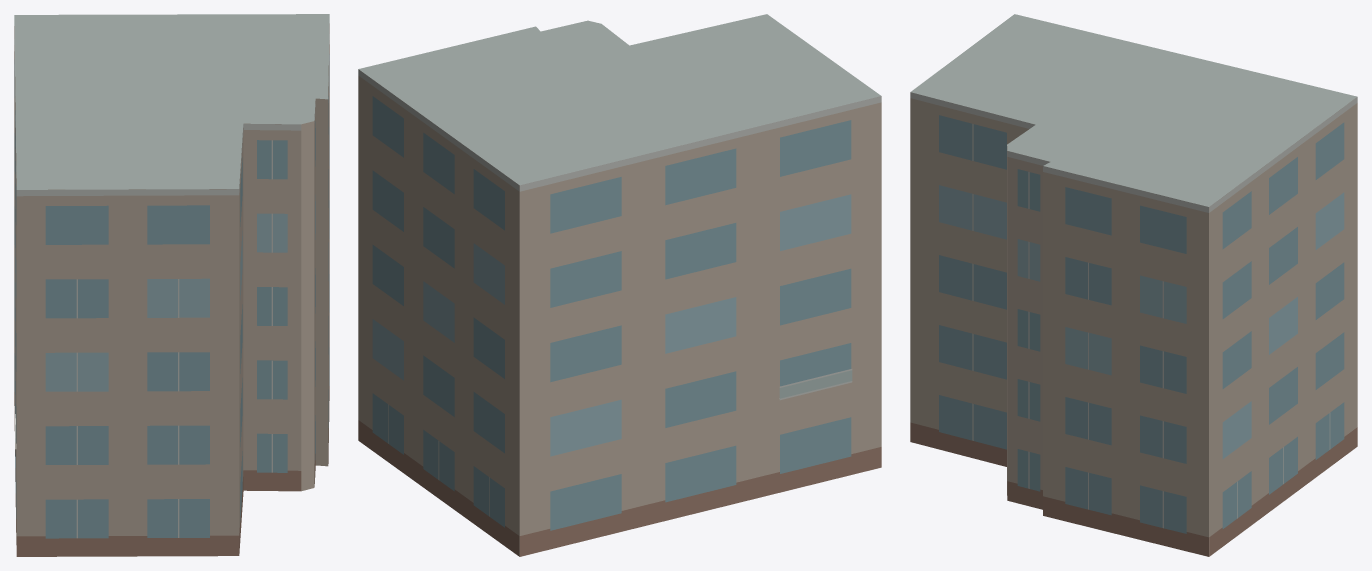
File: survey-upis-32870608.glb
The picture shows the model from 3 angles, left to right: view 1: azimuth 30°, elevation 25°; view 2: azimuth 150°, elevation 25°; view 3: azimuth 270°, elevation 25°; orthographic projection. The views are drawn at different scales.
Visible parts, largest first — view 1: survey-upis-32870608.tmp; view 2: survey-upis-32870608.tmp; view 3: survey-upis-32870608.tmp.
Boxes of the visible parts, x1,y1,x2,y2 form: survey-upis-32870608.tmp: (14,14,329,556); survey-upis-32870608.tmp: (358,14,881,556); survey-upis-32870608.tmp: (910,14,1357,556).
Bounding box in the file's own units: 16.93 × 14.3 × 16.58.
